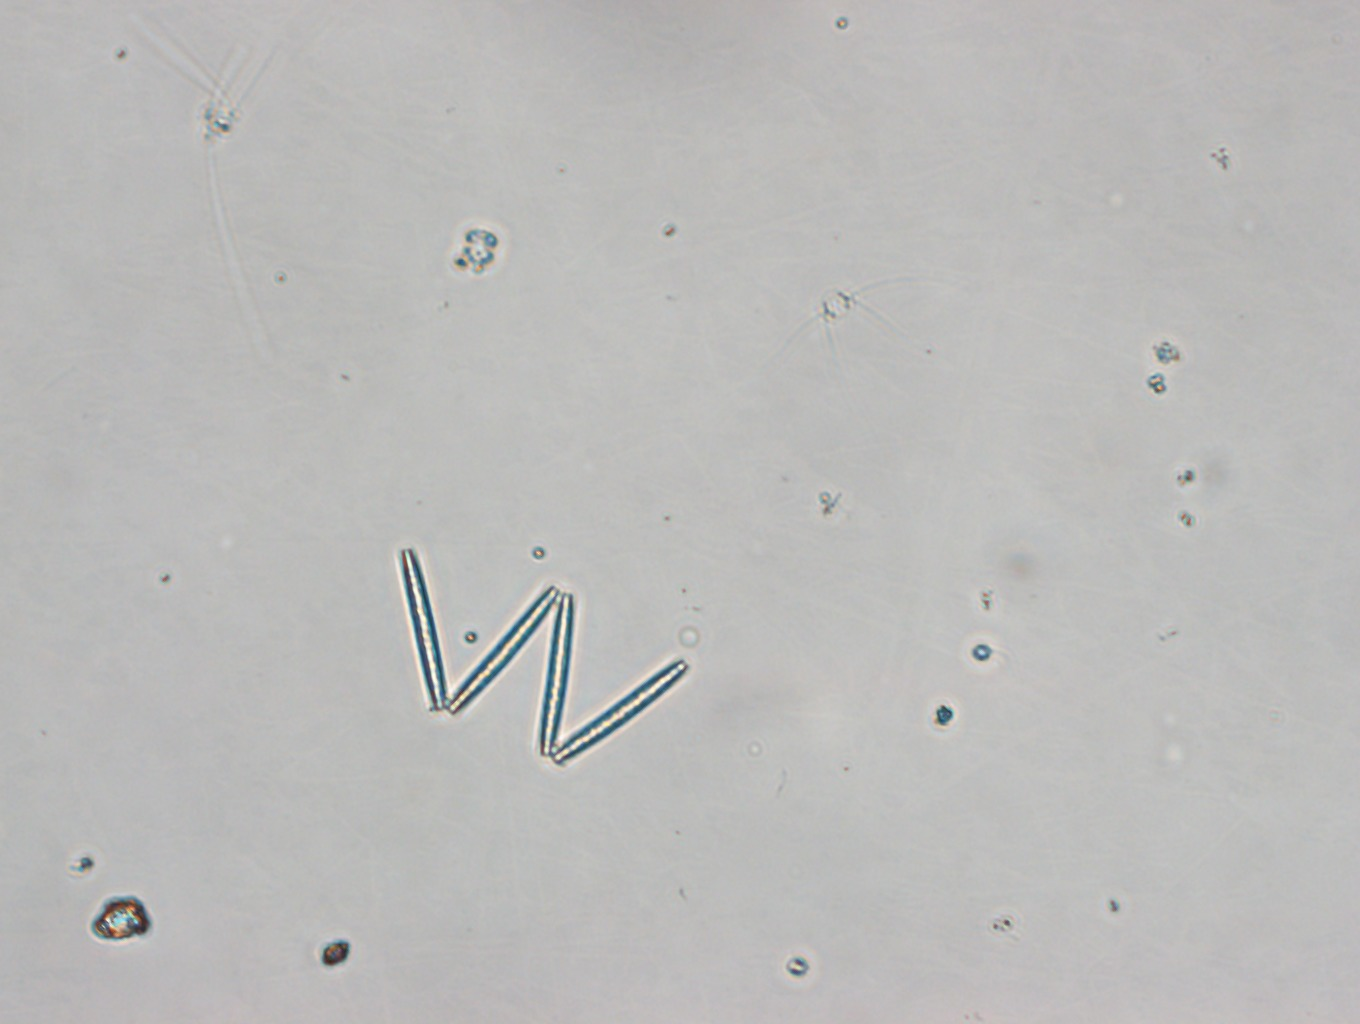thalassionema nitzschioides: (386, 540, 695, 766)
